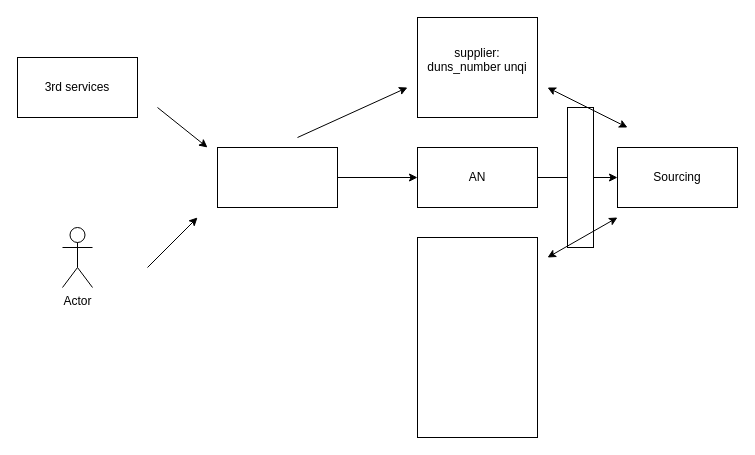
The diagram is 755 pixels wide and 455 high, and some of its shapes have lost their labels. Each missing label, with the centre of its shape:
"org_duns_number: 000000000, 000000000, 000000000, ... 000000000" goes at point 477,337.
"TPD" goes at point 277,177.
